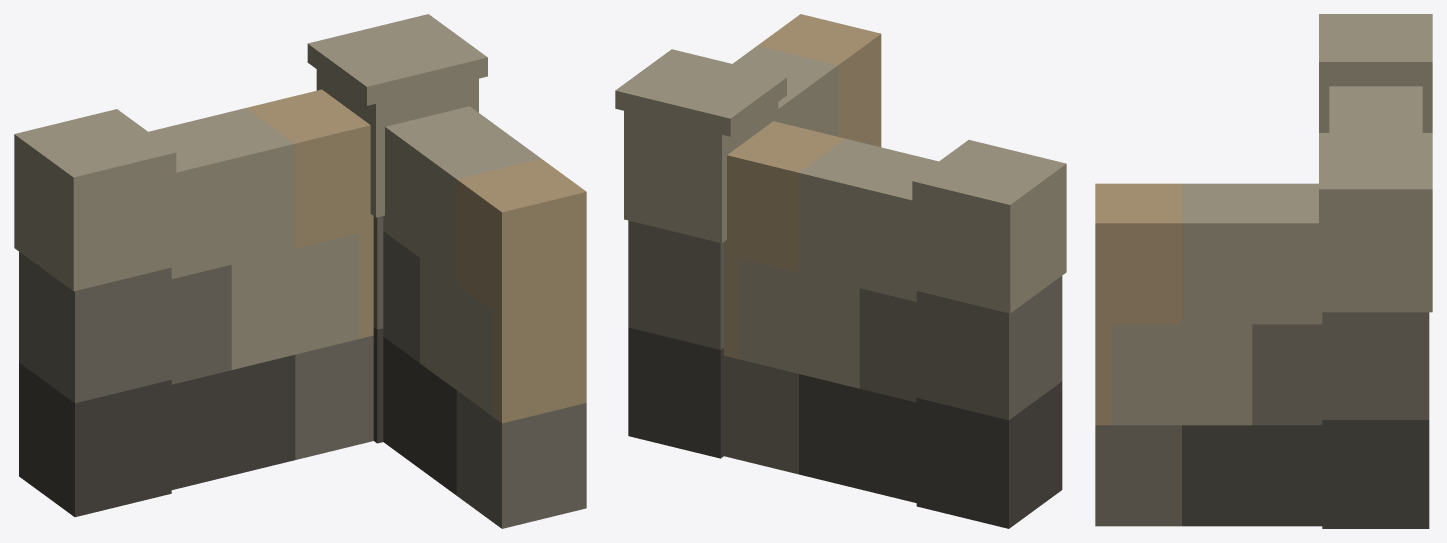
File: TW_STONE_CORNER_R90_A_LOD0.glb
3 views of the same model, side by side, from view 1: azimuth 30°, elevation 25°; view 2: azimuth 150°, elevation 25°; view 3: azimuth 270°, elevation 25° (orthographic). The views are drawn at different scales.
Parts seen in each view (by area): view 1: TW_STONE_CORNER_R90_A_LOD0; view 2: TW_STONE_CORNER_R90_A_LOD0; view 3: TW_STONE_CORNER_R90_A_LOD0.
Part boxes in pixels (left/top/right/bottom): TW_STONE_CORNER_R90_A_LOD0: left=14, top=14, right=586, bottom=528; TW_STONE_CORNER_R90_A_LOD0: left=615, top=14, right=1066, bottom=528; TW_STONE_CORNER_R90_A_LOD0: left=1095, top=14, right=1432, bottom=528.
Size of the model in its own units: 1.37 by 1.14 by 1.01.
1 material, 1 textured.
